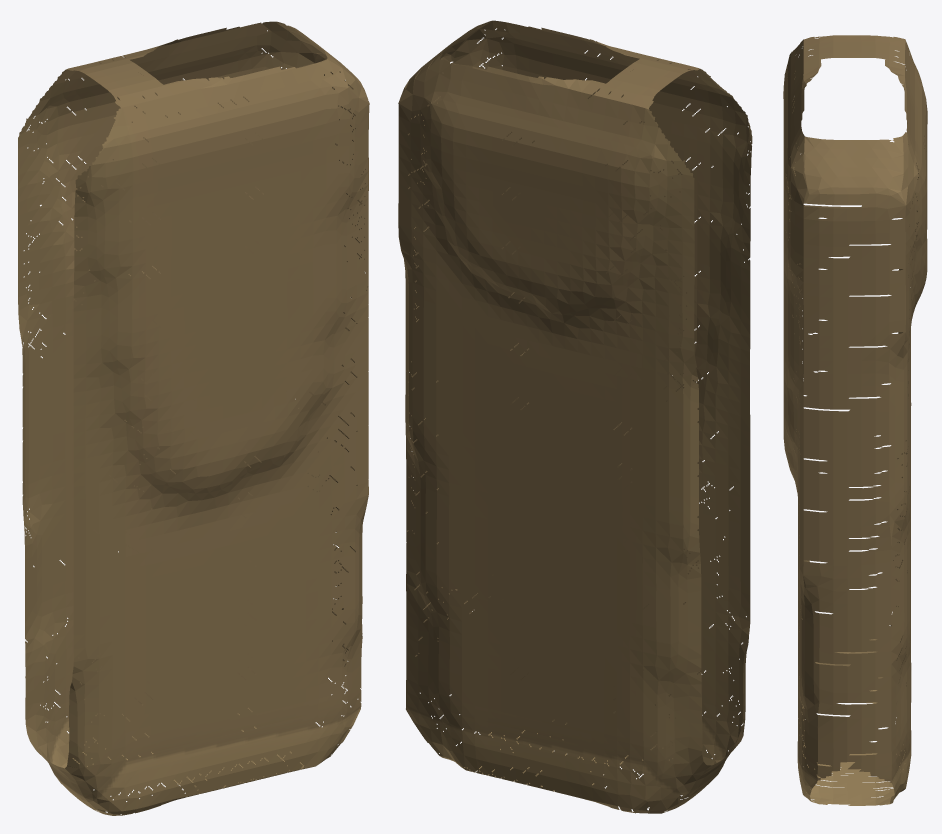
3 views of the same model, side by side, from view 1: azimuth 30°, elevation 25°; view 2: azimuth 150°, elevation 25°; view 3: azimuth 270°, elevation 25° (orthographic). The views are drawn at different scales.
Parts seen in each view (by area): view 1: reconstruction; view 2: reconstruction; view 3: reconstruction.
Boxes of the visible parts, left/top/right/bottom form: reconstruction: left=18, top=21, right=369, bottom=815; reconstruction: left=398, top=20, right=752, bottom=813; reconstruction: left=783, top=35, right=927, bottom=805.
Bounding box in the file's own units: 0.4387 × 1 × 0.1853.
1 material, 1 textured.
